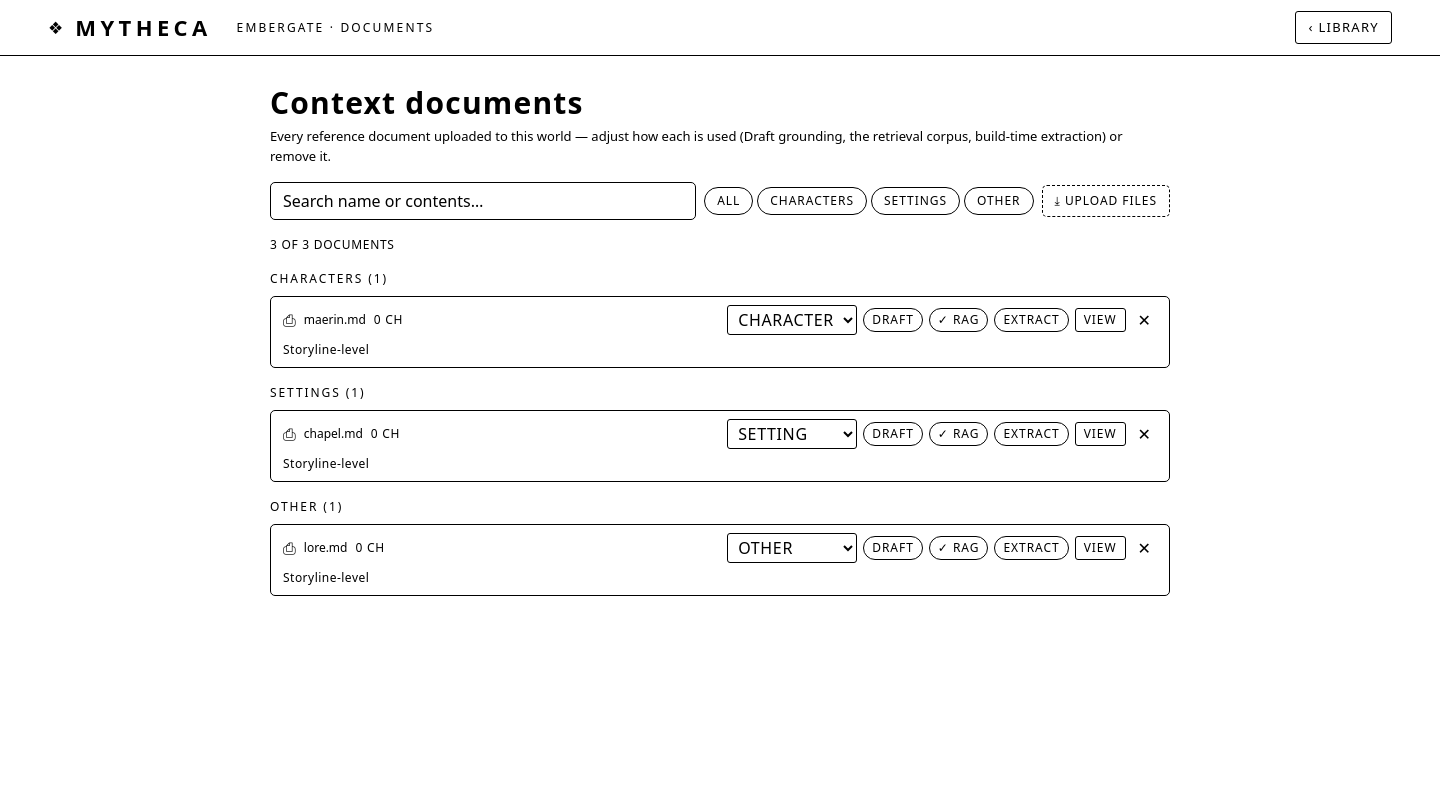
Test case: DocumentsView › deletes a document via deleteContextDocument
The width and height of the screenshot is (1440, 810).
Check: the text "lore.md" is shown, box [304,539,348,557]
Click the button named "delete lore.md" at (1144, 548), box [1132,534,1157,562]
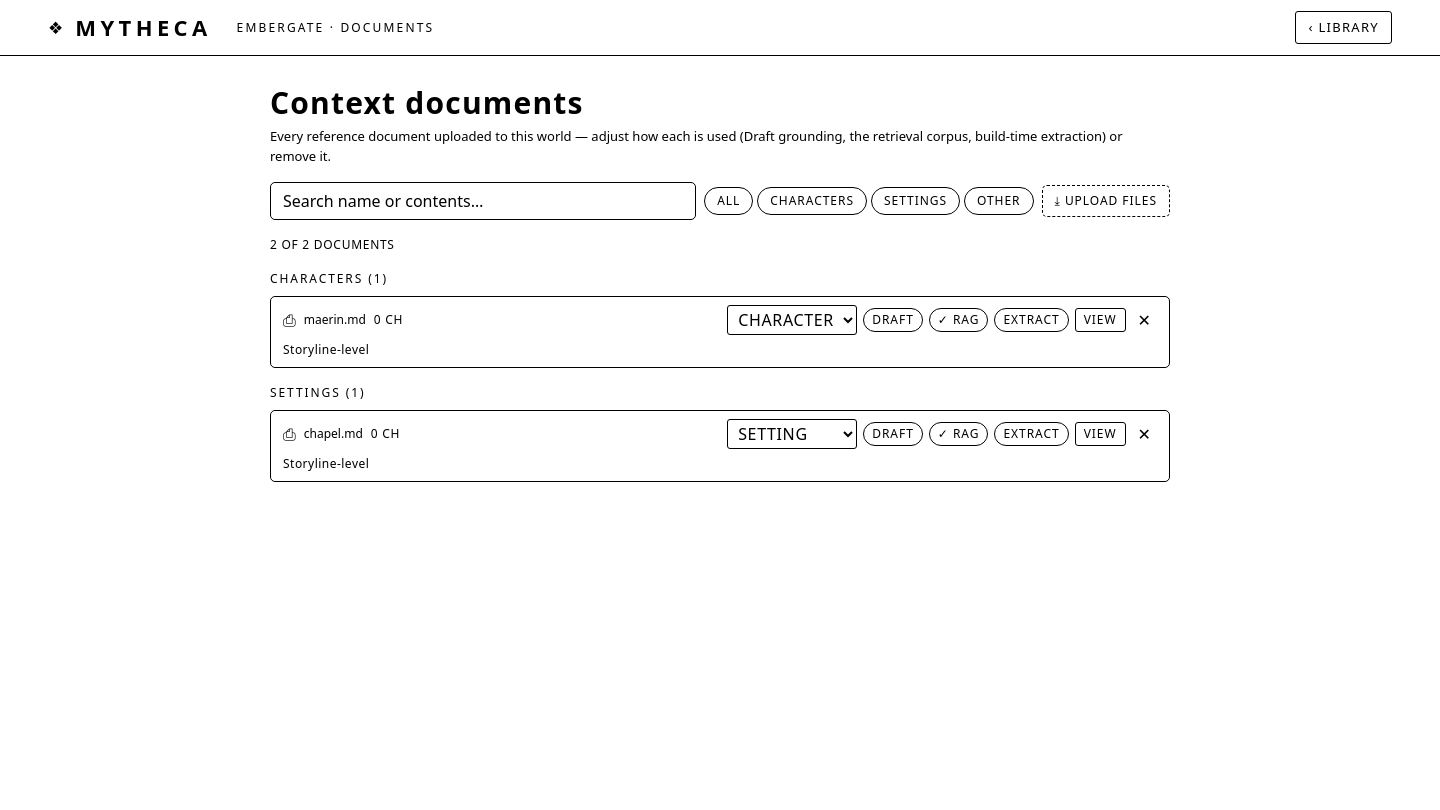
Check: the text "lore.md" is gone
